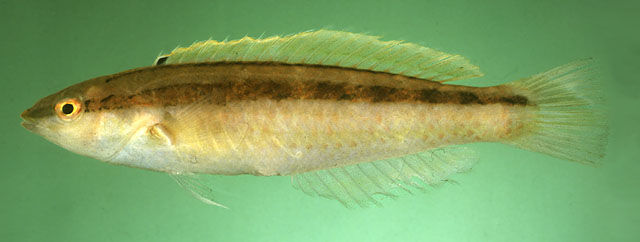fish: (20, 26, 611, 211)
